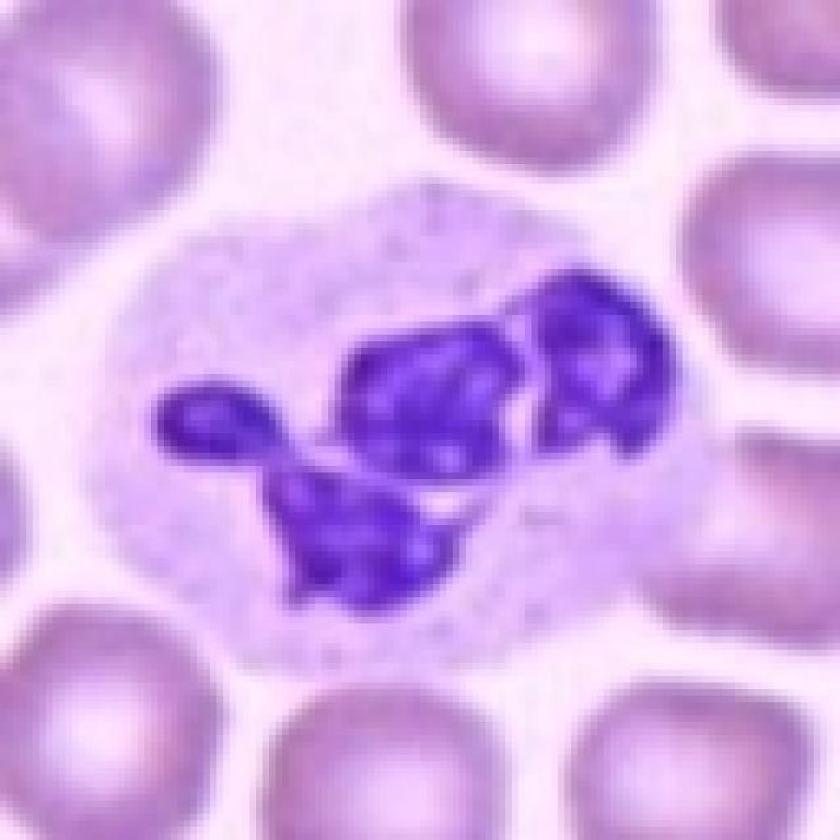neutrophil: (82, 180, 710, 688)
